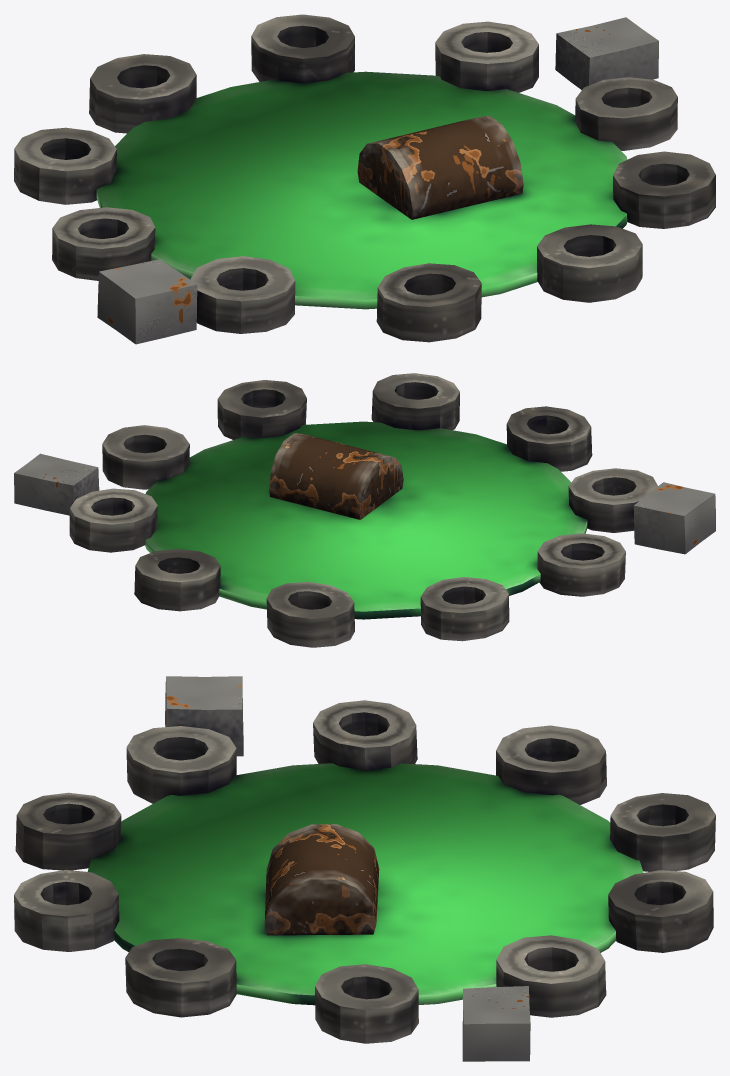
File: CoolantPond.glb
3 views of the same model, one above another, from view 1: azimuth 30°, elevation 25°; view 2: azimuth 150°, elevation 25°; view 3: azimuth 270°, elevation 25° (orthographic). The views are drawn at different scales.
Parts seen in each view (by area): view 1: Coolant, Tyres, Concrete, Drum; view 2: Coolant, Tyres, Concrete, Drum; view 3: Coolant, Tyres, Drum, Concrete.
Boxes of the visible parts, x1,y1,x2,y2 form: Coolant: (96,71,627,309); Tyres: (14,14,715,342); Concrete: (97,17,658,344); Drum: (357,115,523,219); Coolant: (145,421,587,619); Tyres: (69,373,657,647); Concrete: (14,453,715,554); Drum: (269,433,403,519); Coolant: (87,763,643,1005); Tyres: (14,700,715,1043); Drum: (264,824,379,935); Concrete: (165,676,530,1061).
Size of the model in its own units: 7.43 by 0.959 by 6.51.
4 materials, 4 textured.
